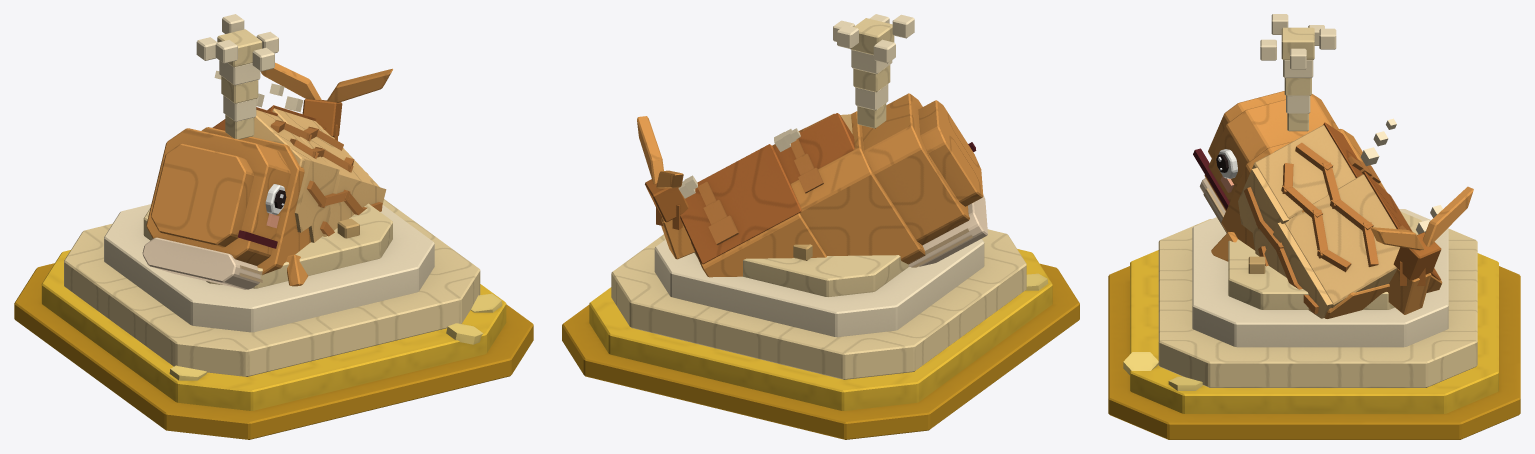
Rendered from DuneWhale.fbx.
3 renders of one model, left to right at view 1: azimuth 30°, elevation 25°; view 2: azimuth 150°, elevation 25°; view 3: azimuth 270°, elevation 25°, orthographic. The views are drawn at different scales.
Parts seen in each view (by area): view 1: Art_DuneWhale_Dune, Art_DuneWhale_Stand, Art_DuneWhale_Whale, Art_DuneWhale_Spout, Art_DuneWhale_Tail, Art_DuneWhale_Flipper; view 2: Art_DuneWhale_Dune, Art_DuneWhale_Whale, Art_DuneWhale_Stand, Art_DuneWhale_Spout, Art_DuneWhale_Tail; view 3: Art_DuneWhale_Dune, Art_DuneWhale_Stand, Art_DuneWhale_Whale, Art_DuneWhale_Tail, Art_DuneWhale_Spout, Art_DuneWhale_Flipper.
Boxes of the visible parts, box(x1,y1,x2,y2) form: Art_DuneWhale_Dune: box(64, 199, 480, 376); Art_DuneWhale_Stand: box(14, 250, 533, 439); Art_DuneWhale_Whale: box(142, 70, 386, 289); Art_DuneWhale_Spout: box(196, 14, 278, 139); Art_DuneWhale_Tail: box(260, 62, 392, 140); Art_DuneWhale_Flipper: box(286, 254, 308, 286); Art_DuneWhale_Dune: box(611, 229, 1026, 379); Art_DuneWhale_Whale: box(678, 93, 987, 277); Art_DuneWhale_Stand: box(562, 249, 1079, 439); Art_DuneWhale_Spout: box(833, 14, 914, 128); Art_DuneWhale_Tail: box(637, 116, 694, 259); Art_DuneWhale_Dune: box(1158, 209, 1477, 387); Art_DuneWhale_Stand: box(1108, 250, 1520, 439); Art_DuneWhale_Whale: box(1193, 91, 1442, 318); Art_DuneWhale_Tail: box(1370, 186, 1473, 314); Art_DuneWhale_Spout: box(1260, 14, 1336, 131); Art_DuneWhale_Flipper: box(1211, 232, 1237, 261).
Size of the model in its own units: 3.44 by 2.81 by 3.44.
